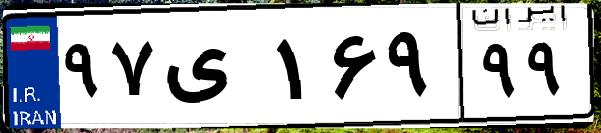1: (270, 28, 330, 110)
6: (330, 28, 385, 110)
7: (110, 28, 158, 98)
9: (385, 28, 445, 110), (57, 26, 110, 100), (475, 38, 525, 113), (525, 38, 570, 115)
ی: (158, 20, 270, 120)
